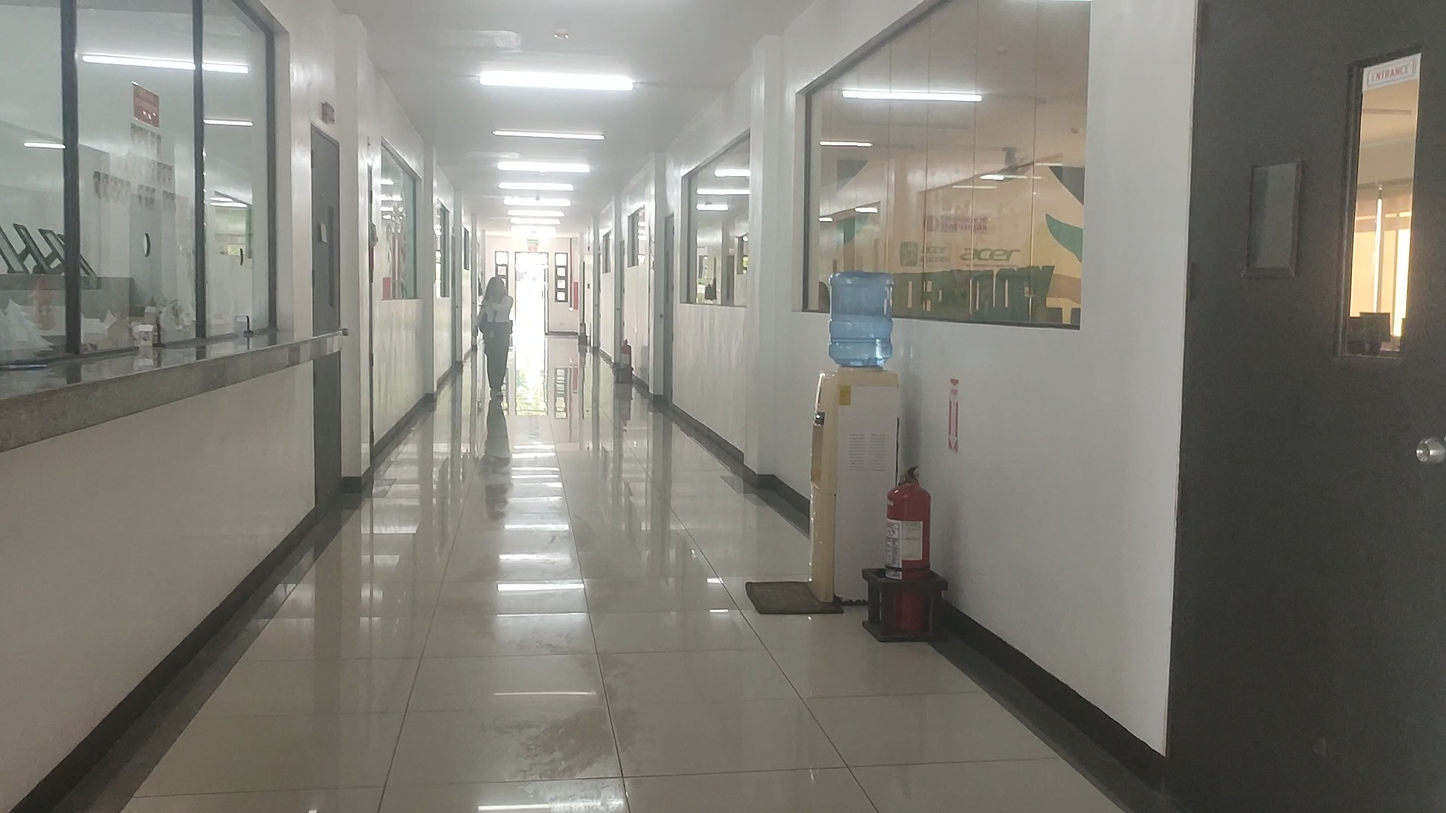door: (1174, 0, 1446, 813)
